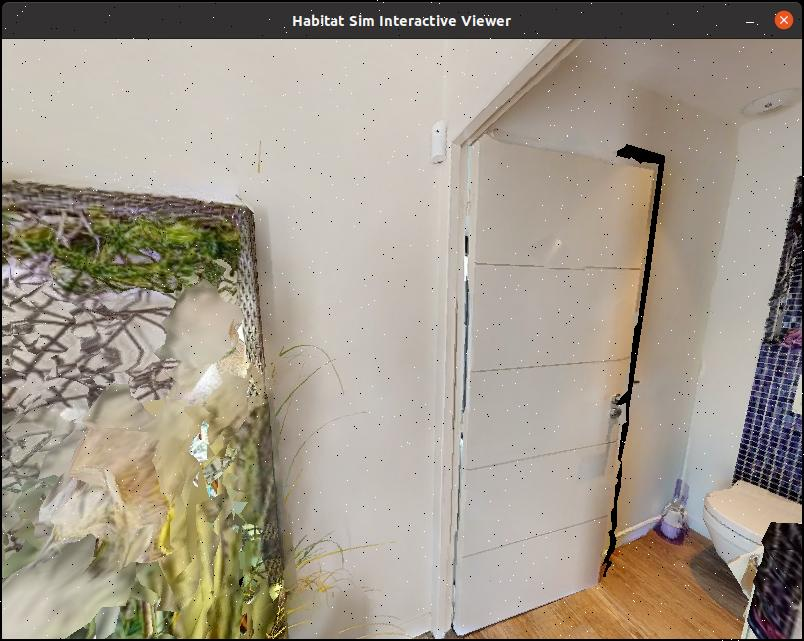door: (448, 137, 641, 641)
toilet: (695, 469, 804, 595)
